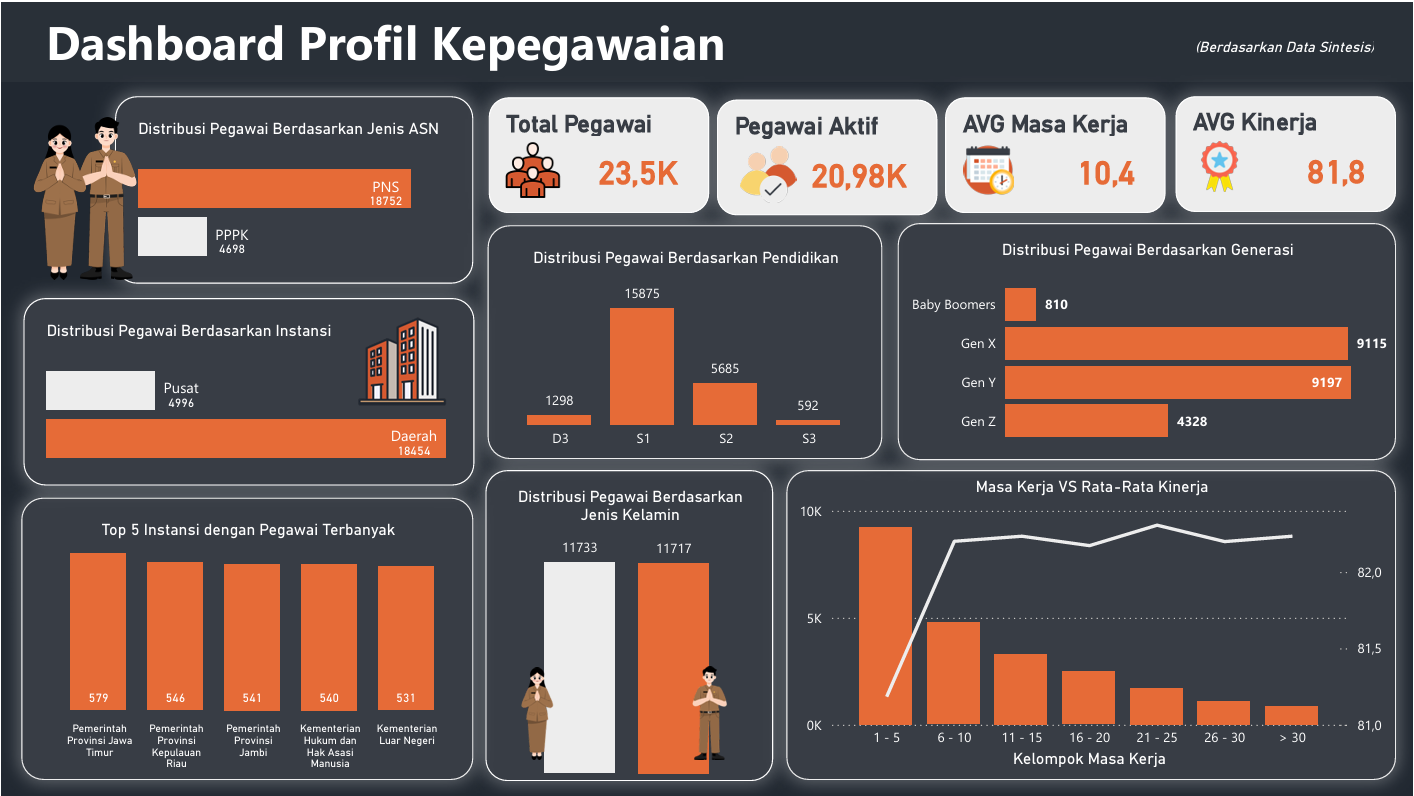

This screenshot's page, from the dashboard's own definition file:
{"tool":"powerbi","page":{"name":"Page 1","canvas":[1280,720],"ordinal":0},"visuals":[{"type":"clusteredBarChart","title":"Distribusi Pegawai Berdasarkan Jenis ASN","fields":{"Category":["warehouse analytic_kepegawaian.jenis_asn"],"Y":["CountNonNull(warehouse analytic_kepegawaian.pegawai_id)"]},"box":[102.7,84.5,325.5,170],"z":0},{"type":"columnChart","title":"Distribusi Pegawai Berdasarkan Jenis Kelamin","fields":{"Category":["warehouse analytic_kepegawaian.jenis_kelamin"],"Y":["CountNonNull(warehouse analytic_kepegawaian.pegawai_id)"]},"box":[439.1,423.6,260.9,282.7],"z":0,"group":"g1"},{"type":"cardVisual","title":"AVG Masa Kerja","fields":{"Data":["Avg(warehouse analytic_kepegawaian.masa_kerja)"]},"box":[856.2,86,200,105],"z":1000},{"type":"image","box":[597.7,591.3,84,106.7],"z":1000,"group":"g1"},{"type":"cardVisual","title":"Pegawai Aktif","fields":{"Data":["warehouse analytic_kepegawaian.pegawai_aktif"]},"box":[648.6,88,200,105],"z":2000},{"type":"image","box":[445.2,591.3,84.9,107.8],"z":2000,"group":"g1"},{"type":"image","box":[0,95.5,147.3,164.5],"z":3000},{"type":"clusteredColumnChart","title":"Distribusi Pegawai Berdasarkan Pendidikan","fields":{"Category":["warehouse analytic_kepegawaian.pendidikan"],"Y":["CountNonNull(warehouse analytic_kepegawaian.pendidikan)"]},"box":[440.6,202,358.1,212.5],"z":3000,"group":"g2"},{"type":"clusteredBarChart","title":"Distribusi Pegawai Berdasarkan Instansi","fields":{"Category":["warehouse analytic_kepegawaian.jenis_instansi"],"Y":["CountNonNull(warehouse analytic_kepegawaian.pegawai_id)"]},"box":[17.3,267.2,410.4,170.2],"z":4000,"group":"g3"},{"type":"shape","box":[0,0,1280.4,71.6],"z":6000},{"type":"columnChart","title":"Top 5 Instansi dengan Pegawai Terbanyak","fields":{"Category":["warehouse analytic_kepegawaian.instansi"],"Y":["CountNonNull(warehouse analytic_kepegawaian.pegawai_id)"]},"box":[17.5,449.2,410,255.8],"z":7000},{"type":"cardVisual","title":"Total Pegawai","fields":{"Data":["warehouse analytic_kepegawaian.total_pegawai"]},"box":[441.5,86,200,105],"z":8000},{"type":"image","box":[451.5,126,60,51.7],"z":9000},{"type":"image","box":[871.2,128.5,50,46.2],"z":10000},{"type":"image","box":[666.1,130.5,58.8,51.2],"z":11000},{"type":"cardVisual","title":"AVG Kinerja","fields":{"Data":["Avg(warehouse analytic_kepegawaian.rata_rata_kinerja)"]},"box":[1064.6,85.1,200,105],"z":12000},{"type":"image","box":[1079.6,126.1,50,46],"z":13000},{"type":"group","id":"g1","title":"Group 2","box":[439.1,423.6,260.9,282.7],"z":14000},{"type":"lineClusteredColumnComboChart","title":"Masa Kerja VS Rata-Rata Kinerja","fields":{"Y2":["Avg(warehouse analytic_kepegawaian.rata_rata_kinerja)"],"Y":["Count(warehouse analytic_kepegawaian.pegawai_id)"],"Category":["warehouse analytic_kepegawaian.kelompok_masa_kerja"]},"box":[711.8,423.6,552.7,281.8],"z":15000},{"type":"barChart","title":"Distribusi Pegawai Berdasarkan Generasi","fields":{"Category":["warehouse analytic_kepegawaian.generasi"],"Y":["CountNonNull(warehouse analytic_kepegawaian.pegawai_id)"]},"box":[812.8,200.4,451.7,214.7],"z":16000},{"type":"group","id":"g2","title":"Group 1","box":[440.6,202,358.1,212.5],"z":17000},{"type":"image","box":[303.6,274.4,116.1,98.6],"z":18000,"group":"g3"},{"type":"group","id":"g3","title":"Group 3","box":[17.3,267.2,410.4,170.2],"z":18001},{"type":"textbox","box":[987.8,25.6,262.2,28.9],"z":18002}]}

Visuals, with their boxes in screenshot pixels (x1, y1, x2, y2), scaled from the page's 1280x720 canvas onto the 1414x796 screenshot:
"Distribusi Pegawai Berdasarkan Jenis ASN" clusteredBarChart: left=113, top=93, right=473, bottom=281
"Distribusi Pegawai Berdasarkan Jenis Kelamin" columnChart: left=485, top=468, right=773, bottom=781
"AVG Masa Kerja" cardVisual: left=946, top=95, right=1167, bottom=211
image: left=660, top=654, right=753, bottom=772
"Pegawai Aktif" cardVisual: left=717, top=97, right=937, bottom=213
image: left=492, top=654, right=586, bottom=773
image: left=0, top=106, right=163, bottom=287
"Distribusi Pegawai Berdasarkan Pendidikan" clusteredColumnChart: left=487, top=223, right=882, bottom=458
"Distribusi Pegawai Berdasarkan Instansi" clusteredBarChart: left=19, top=295, right=472, bottom=484
shape: left=0, top=0, right=1413, bottom=79
"Top 5 Instansi dengan Pegawai Terbanyak" columnChart: left=19, top=497, right=472, bottom=779
"Total Pegawai" cardVisual: left=488, top=95, right=709, bottom=211
image: left=499, top=139, right=565, bottom=196
image: left=962, top=142, right=1018, bottom=193
image: left=736, top=144, right=801, bottom=201
"AVG Kinerja" cardVisual: left=1176, top=94, right=1397, bottom=210
image: left=1193, top=139, right=1248, bottom=190
"Group 2" group: left=485, top=468, right=773, bottom=781
"Masa Kerja VS Rata-Rata Kinerja" lineClusteredColumnComboChart: left=786, top=468, right=1397, bottom=780
"Distribusi Pegawai Berdasarkan Generasi" barChart: left=898, top=222, right=1397, bottom=459
"Group 1" group: left=487, top=223, right=882, bottom=458
image: left=335, top=303, right=464, bottom=412
"Group 3" group: left=19, top=295, right=472, bottom=484
textbox: left=1091, top=28, right=1381, bottom=60
